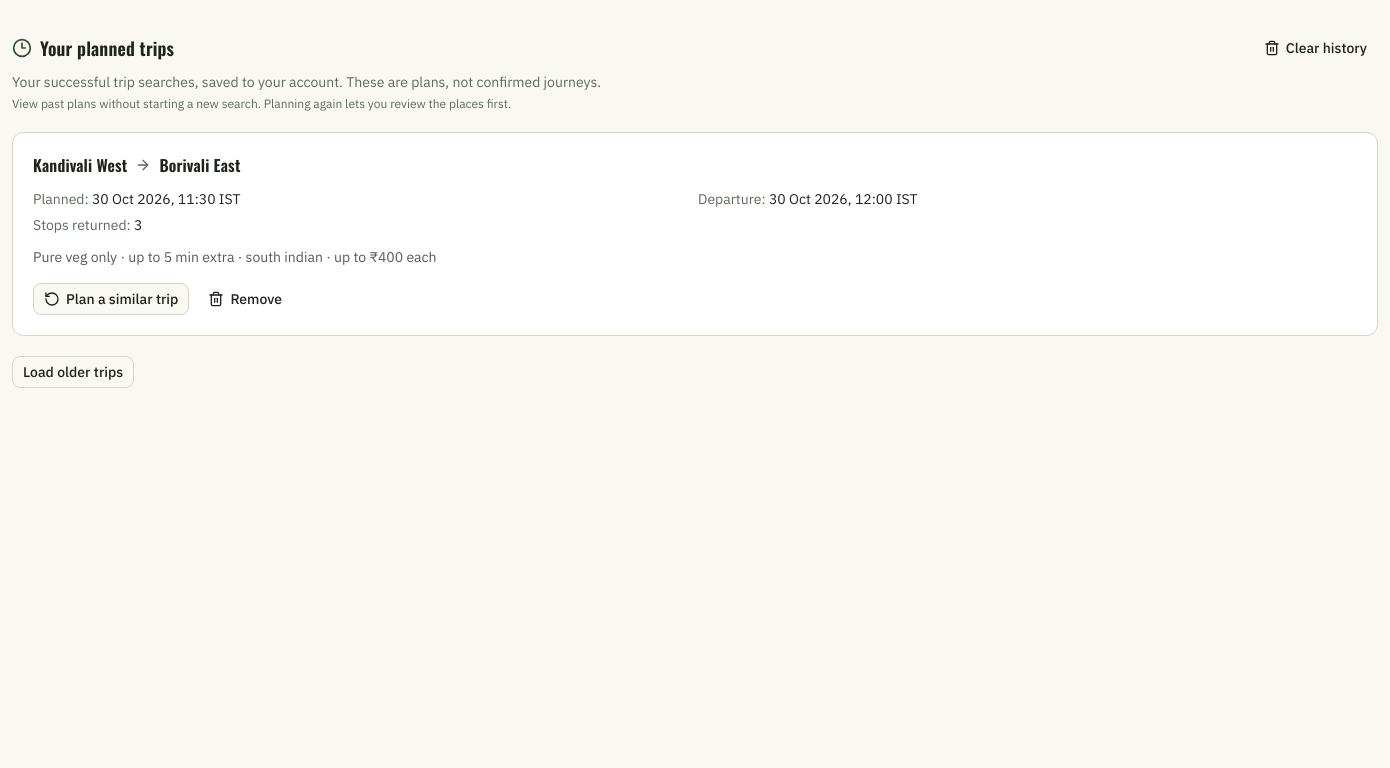
Test: account trip history › loads another page and clears the whole history only after confirmation
Check: the text "Kandivali West" is shown, box [33,153,128,177]
Click the button "Load older trips" at (73, 372), box [12,356,134,388]
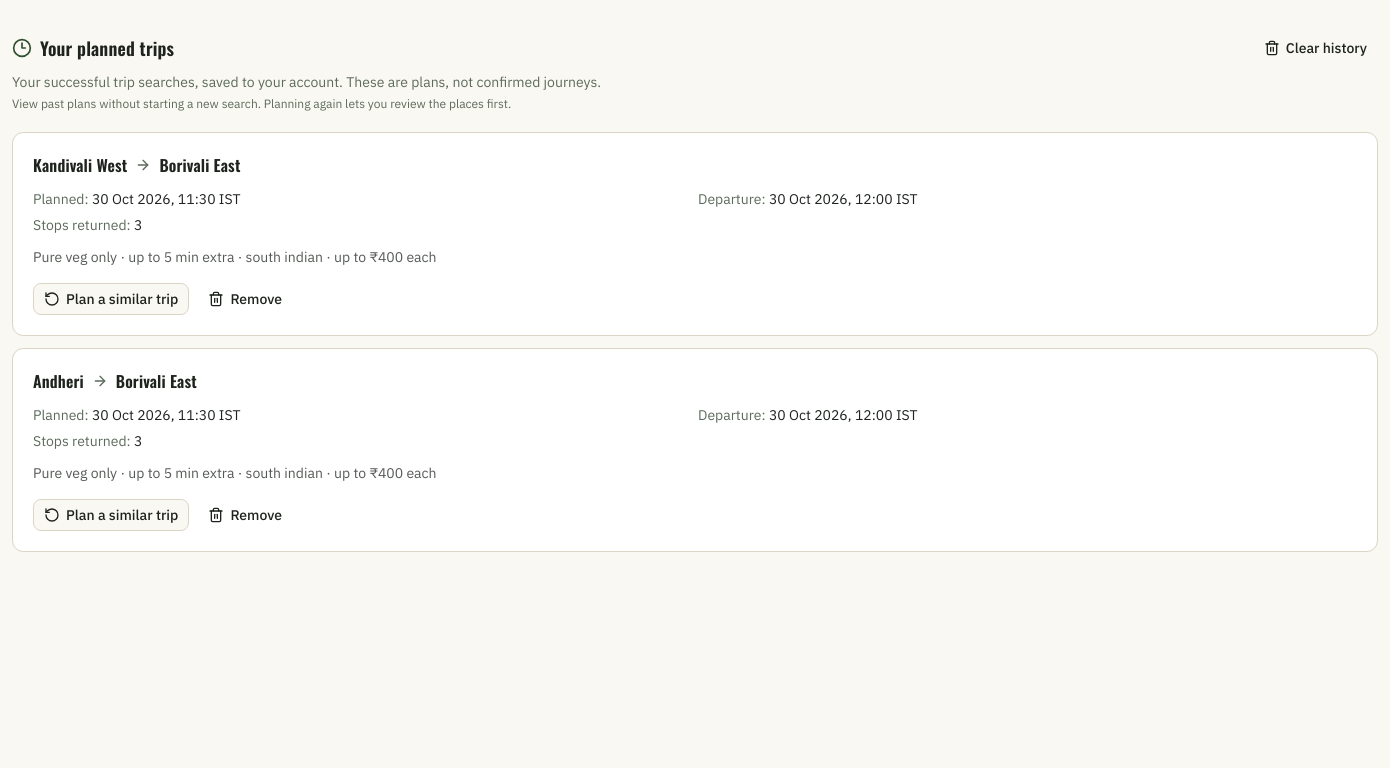
Check: the text "Andheri" is shown, box [33,369,84,393]
Click the button "Clear history" at (1315, 48), box [1253,32,1378,64]
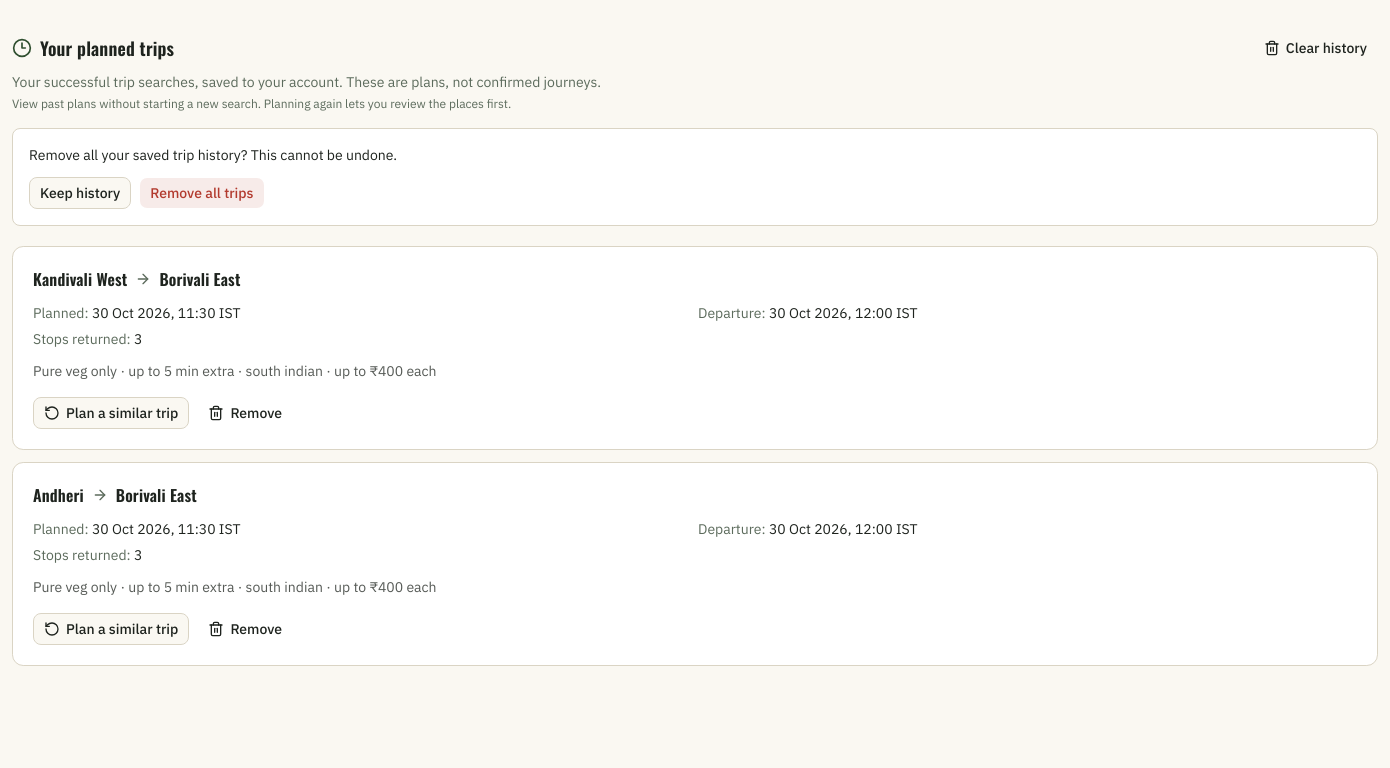
Click the button "Remove all trips" at (202, 193), box [139,177,264,209]
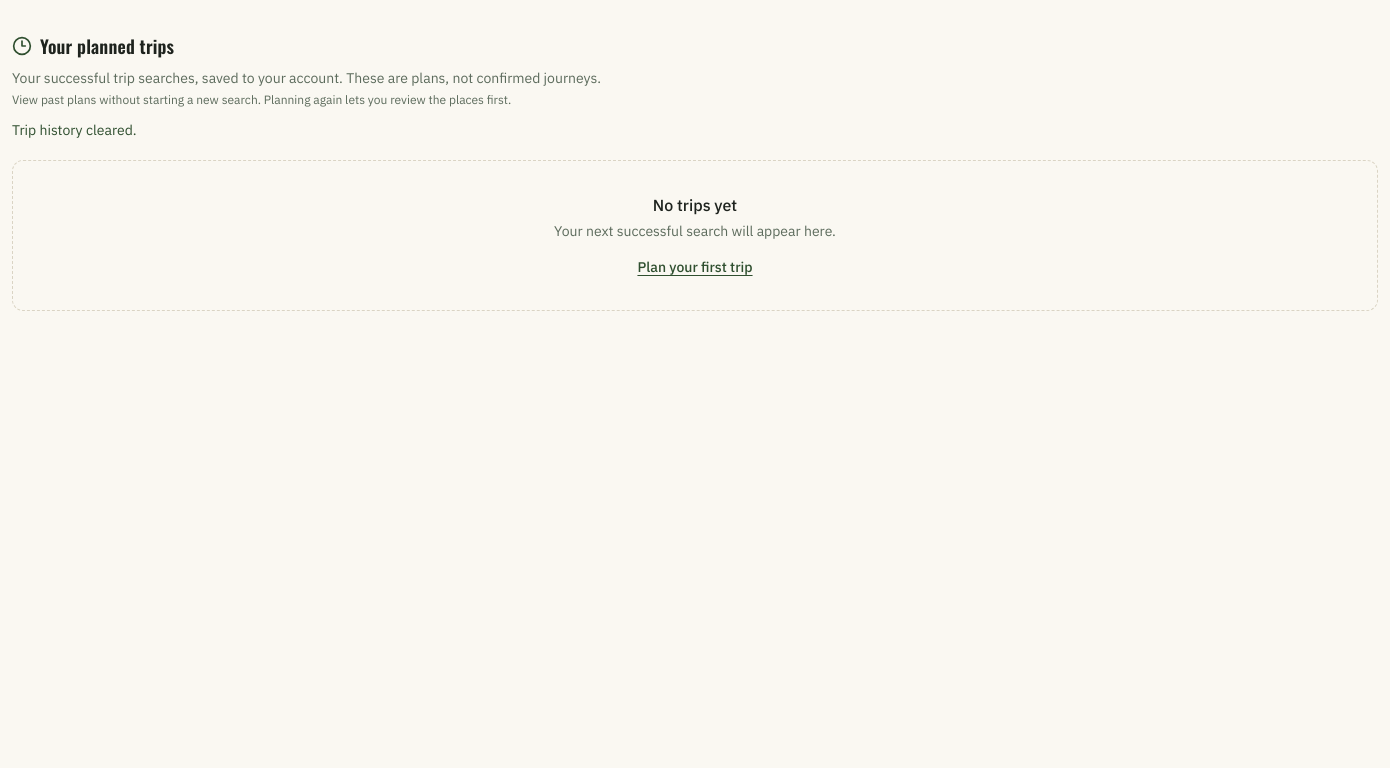
Check: the text "Trip history cleared." is shown, box [12,121,137,139]
